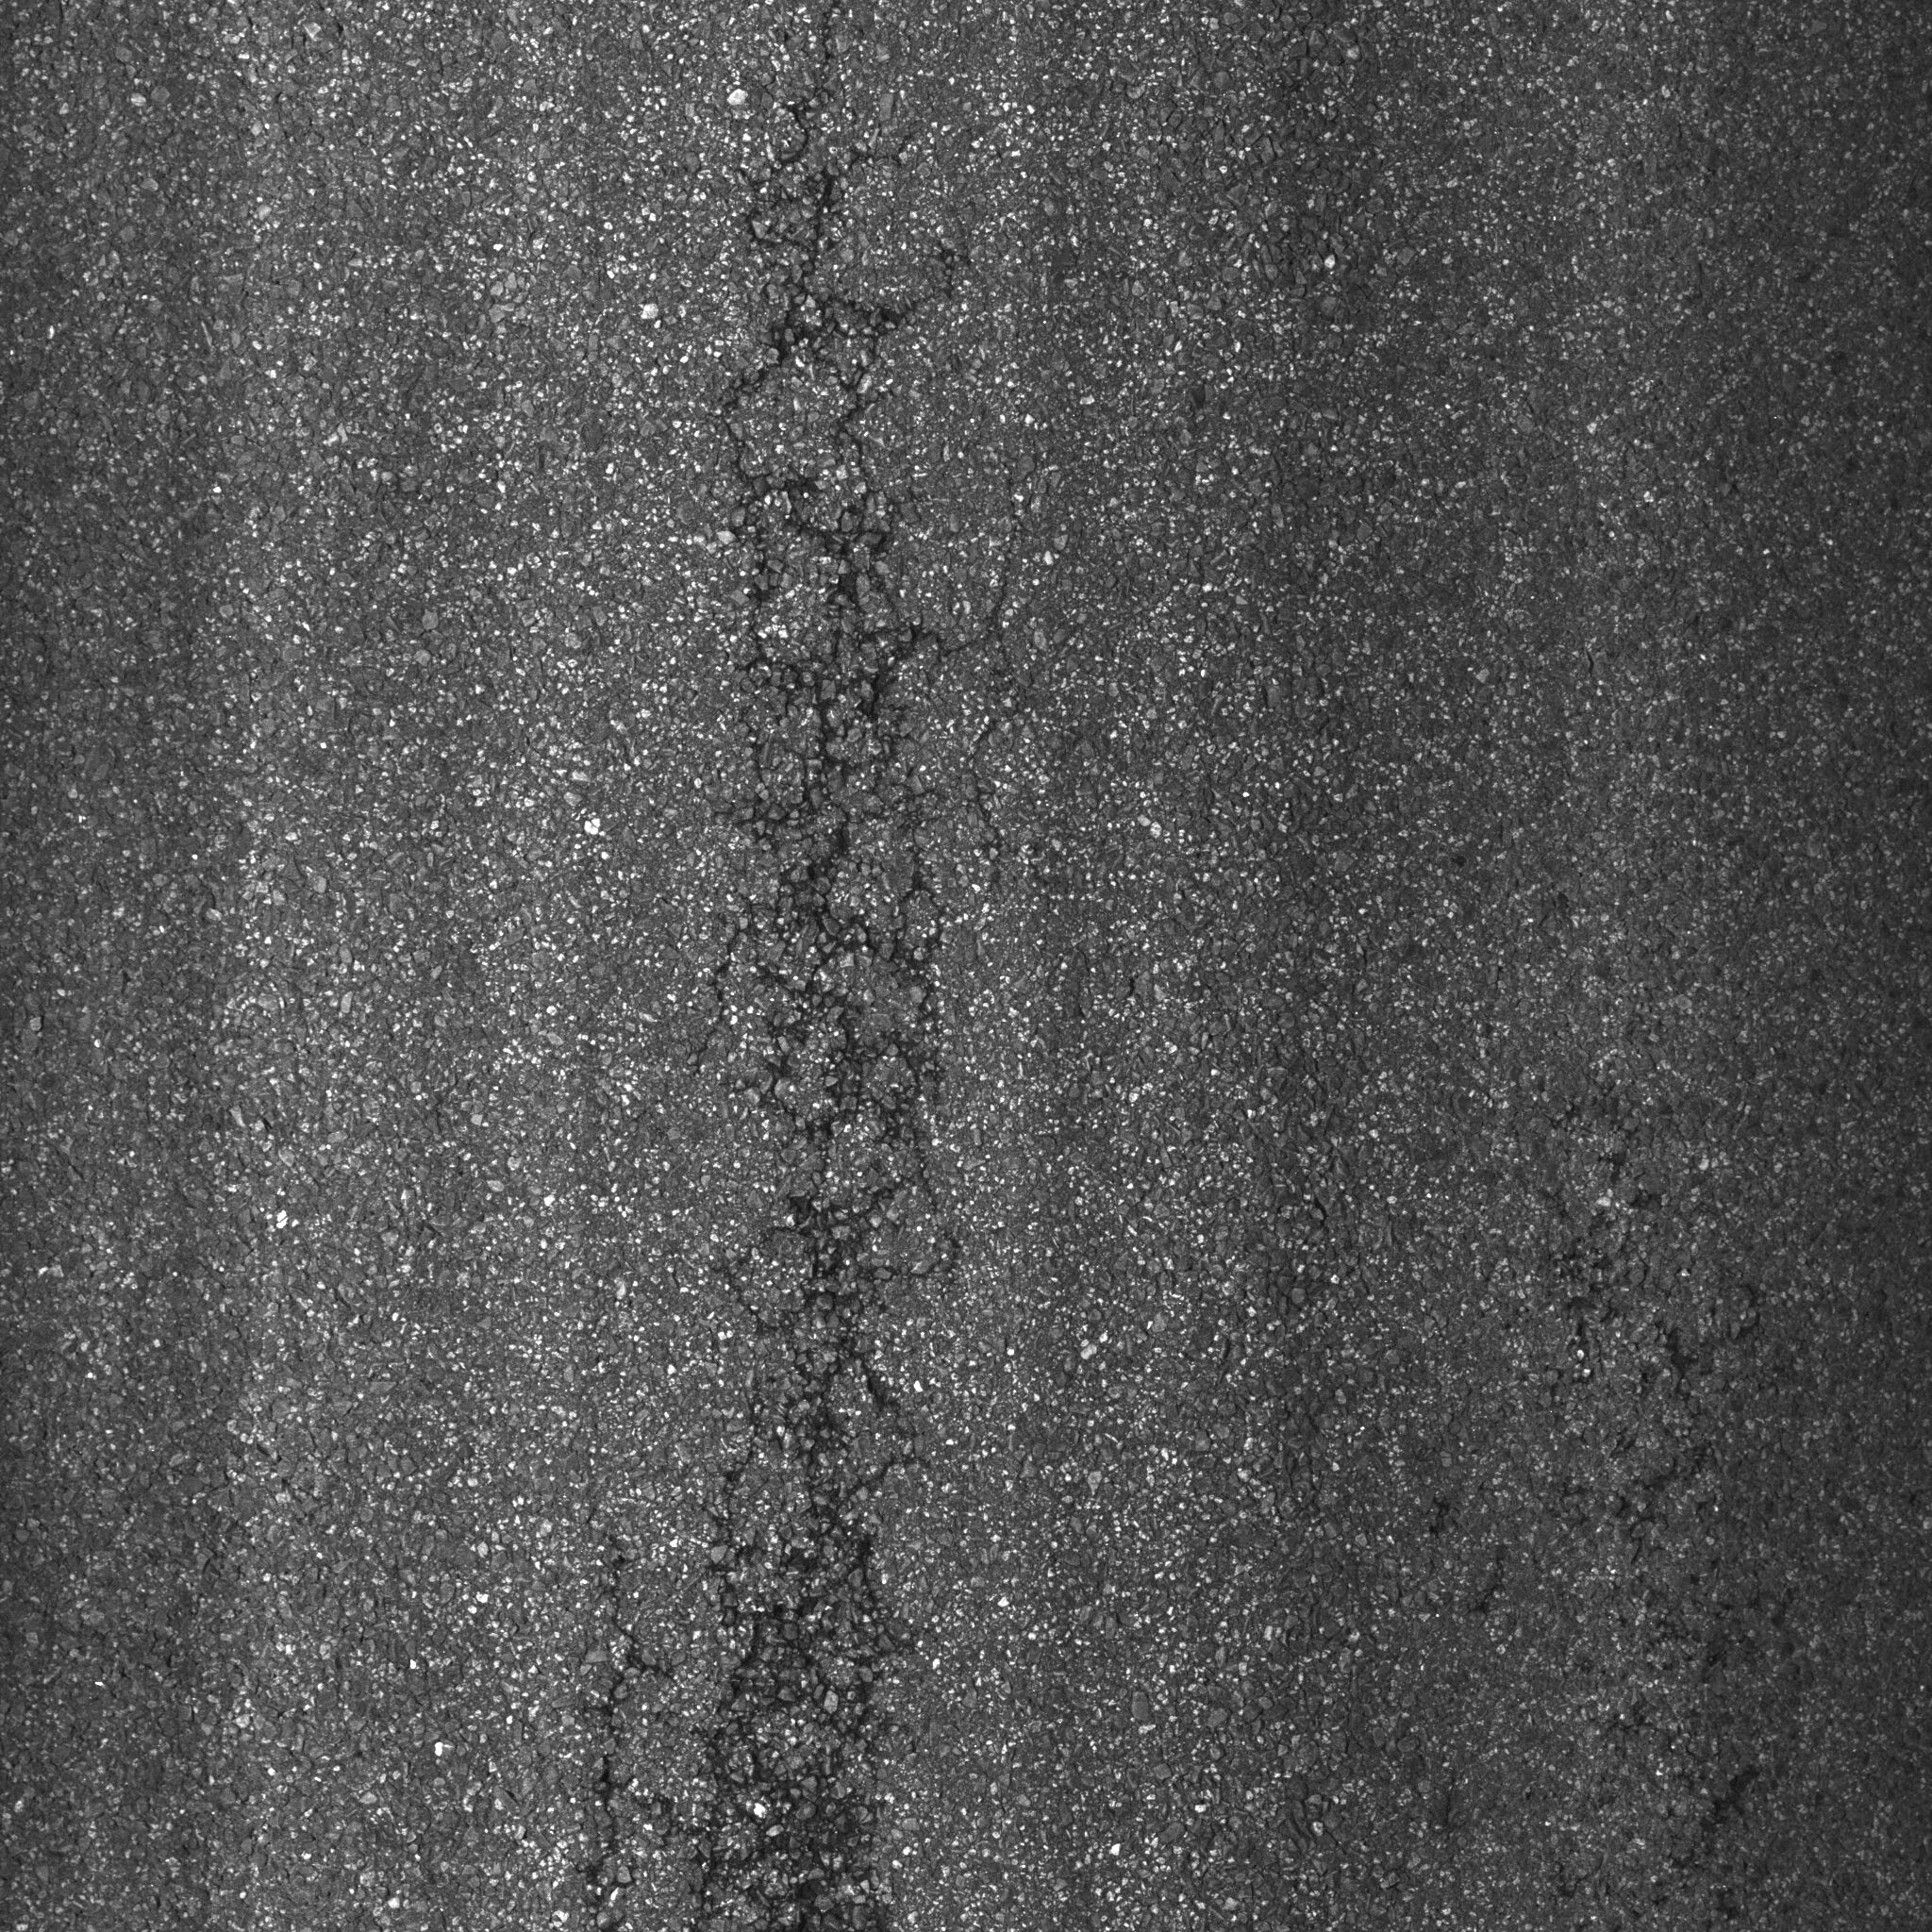alligator: (571, 19, 1099, 1928)
